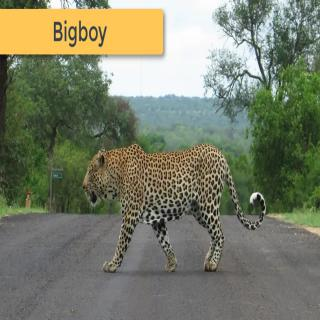Leopard: (83, 142, 267, 272)
